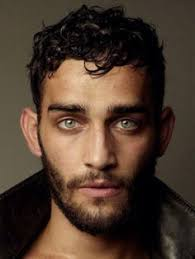middle_eastern_male: (26, 54, 173, 217)
